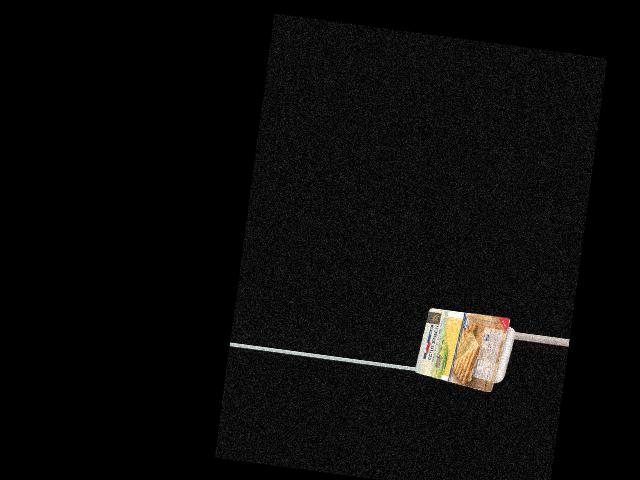cheese: (414, 309, 517, 392)
